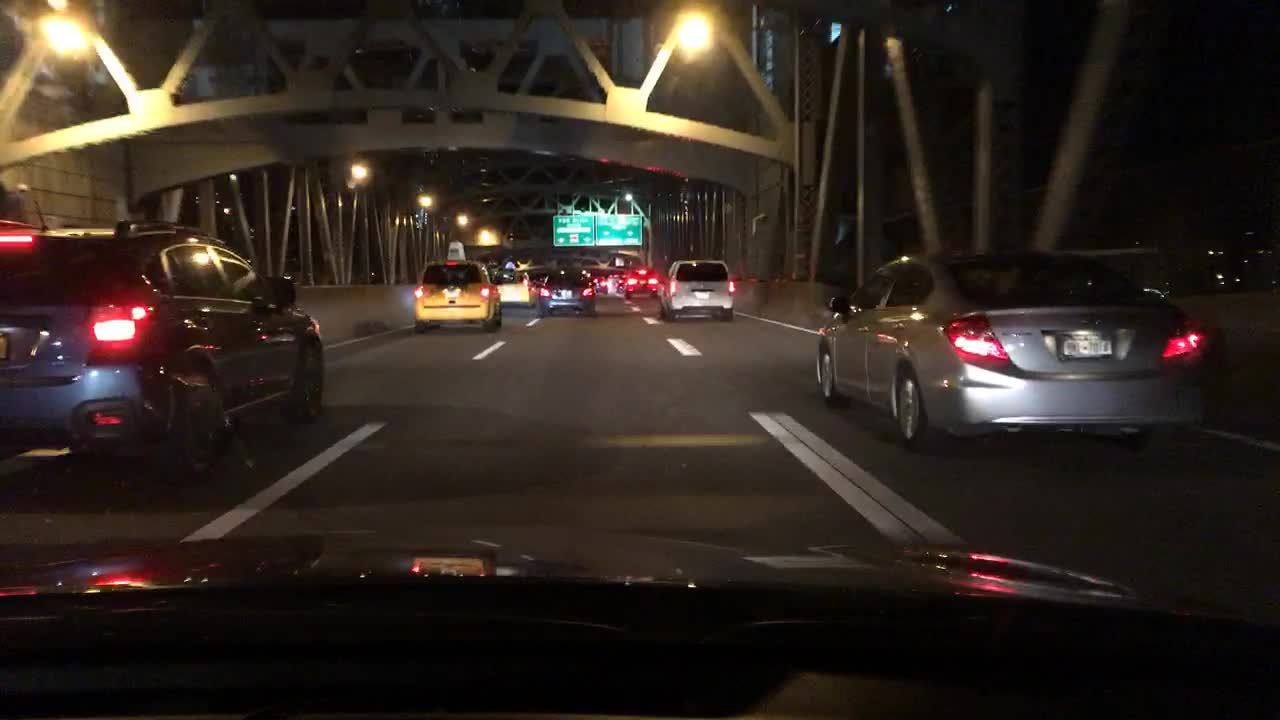car: (0, 197, 327, 482), (811, 246, 1203, 450), (413, 239, 501, 336), (653, 256, 734, 324), (533, 260, 595, 320), (487, 261, 533, 307), (621, 263, 658, 300), (606, 270, 631, 293), (590, 266, 609, 293)
traffic sign: (592, 212, 641, 245), (552, 211, 590, 246)
